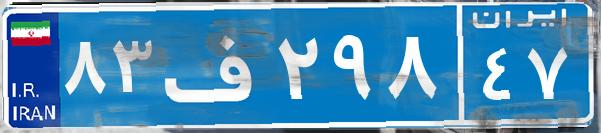2: (273, 28, 330, 110)
3: (110, 28, 158, 105)
4: (475, 38, 525, 113)
7: (525, 38, 570, 115)
8: (385, 28, 445, 110), (57, 26, 110, 107)
9: (330, 28, 385, 110)
ف: (158, 15, 273, 115)
